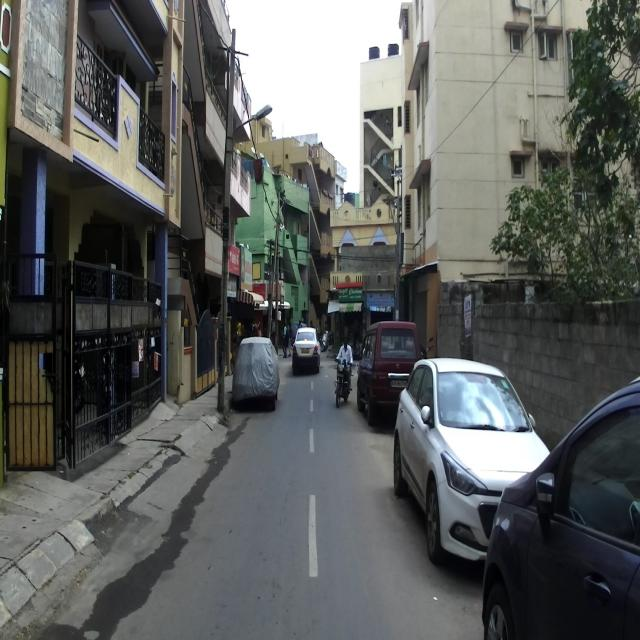car: (393, 355, 550, 566), (356, 320, 422, 426), (232, 335, 280, 410), (290, 324, 322, 374)
